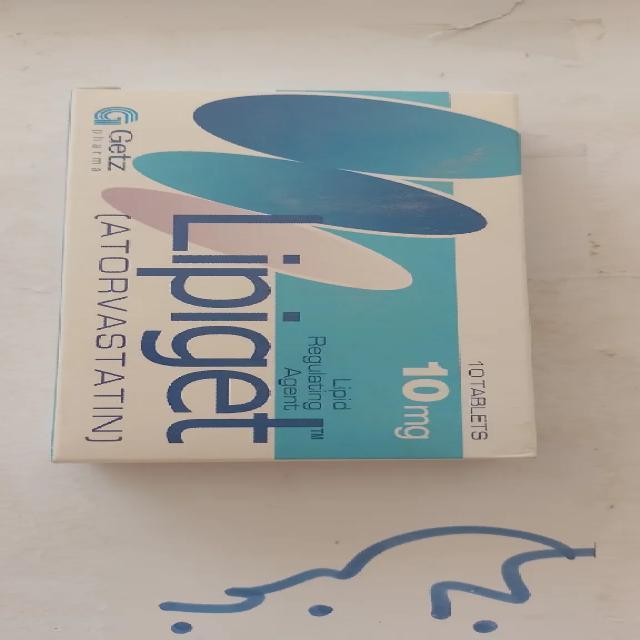drug-name: (134, 201, 333, 450)
